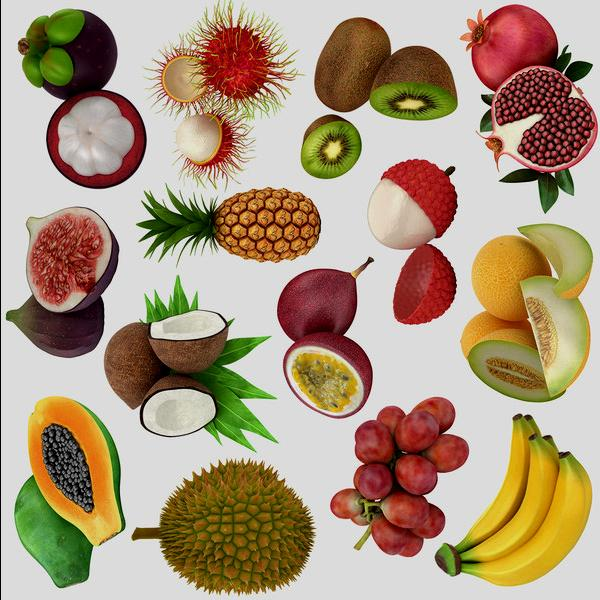chom_chom: (192, 12, 281, 110)
chuoi: (456, 410, 589, 586)
mang_cut: (20, 12, 116, 100)
sau_rieng: (146, 468, 314, 592)
